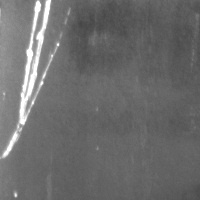scratches: (1, 0, 60, 160)
